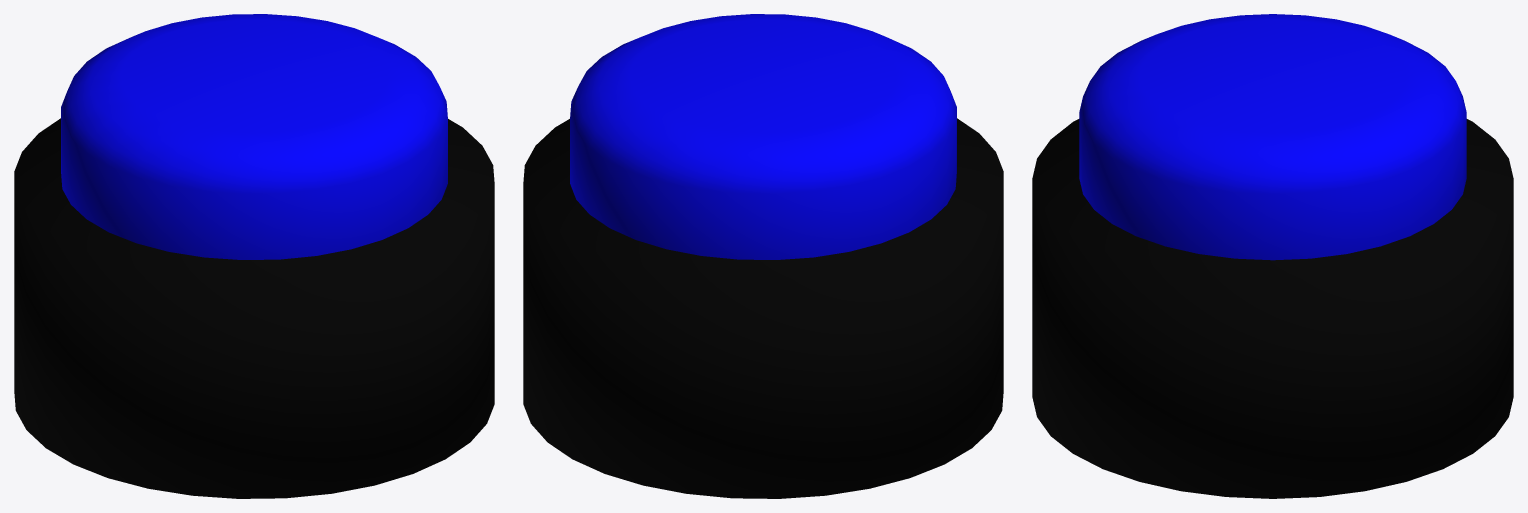
The model's file is PushButton_Blue.fbx.
3 views of the same model, side by side, from view 1: azimuth 30°, elevation 25°; view 2: azimuth 150°, elevation 25°; view 3: azimuth 270°, elevation 25° (orthographic).
Parts seen in each view (by area): view 1: ButtonSide, Button; view 2: ButtonSide, Button; view 3: ButtonSide, Button.
Boxes of the visible parts, x1=… form: ButtonSide: x1=14, y1=118, x2=494, y2=498; Button: x1=61, y1=14, x2=447, y2=259; ButtonSide: x1=523, y1=118, x2=1003, y2=498; Button: x1=570, y1=14, x2=956, y2=259; ButtonSide: x1=1032, y1=119, x2=1513, y2=498; Button: x1=1079, y1=14, x2=1466, y2=260.
Size of the model in its own units: 12.42 by 9.14 by 12.42.
